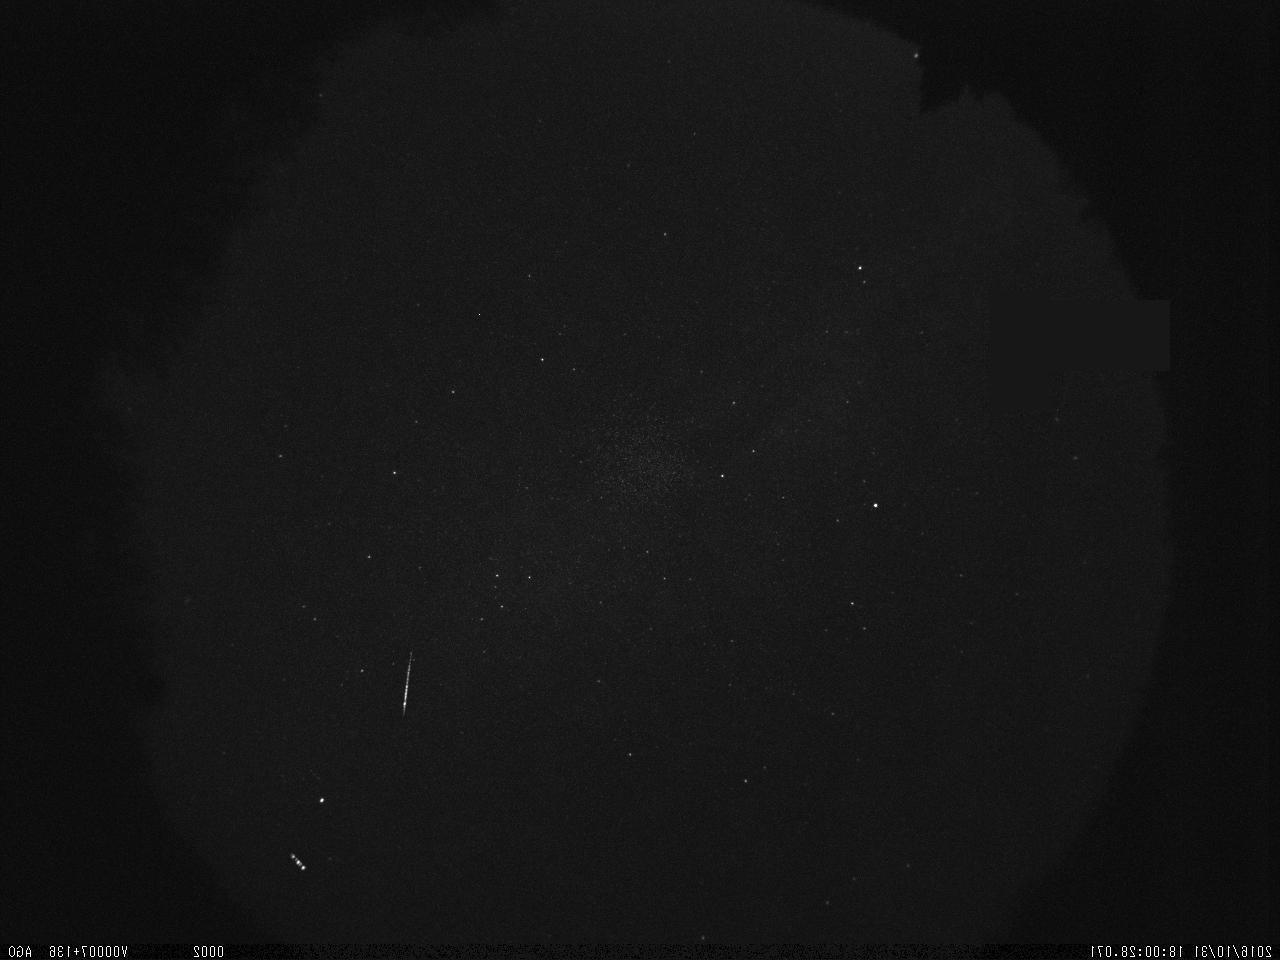meteor: (379, 636, 452, 729)
